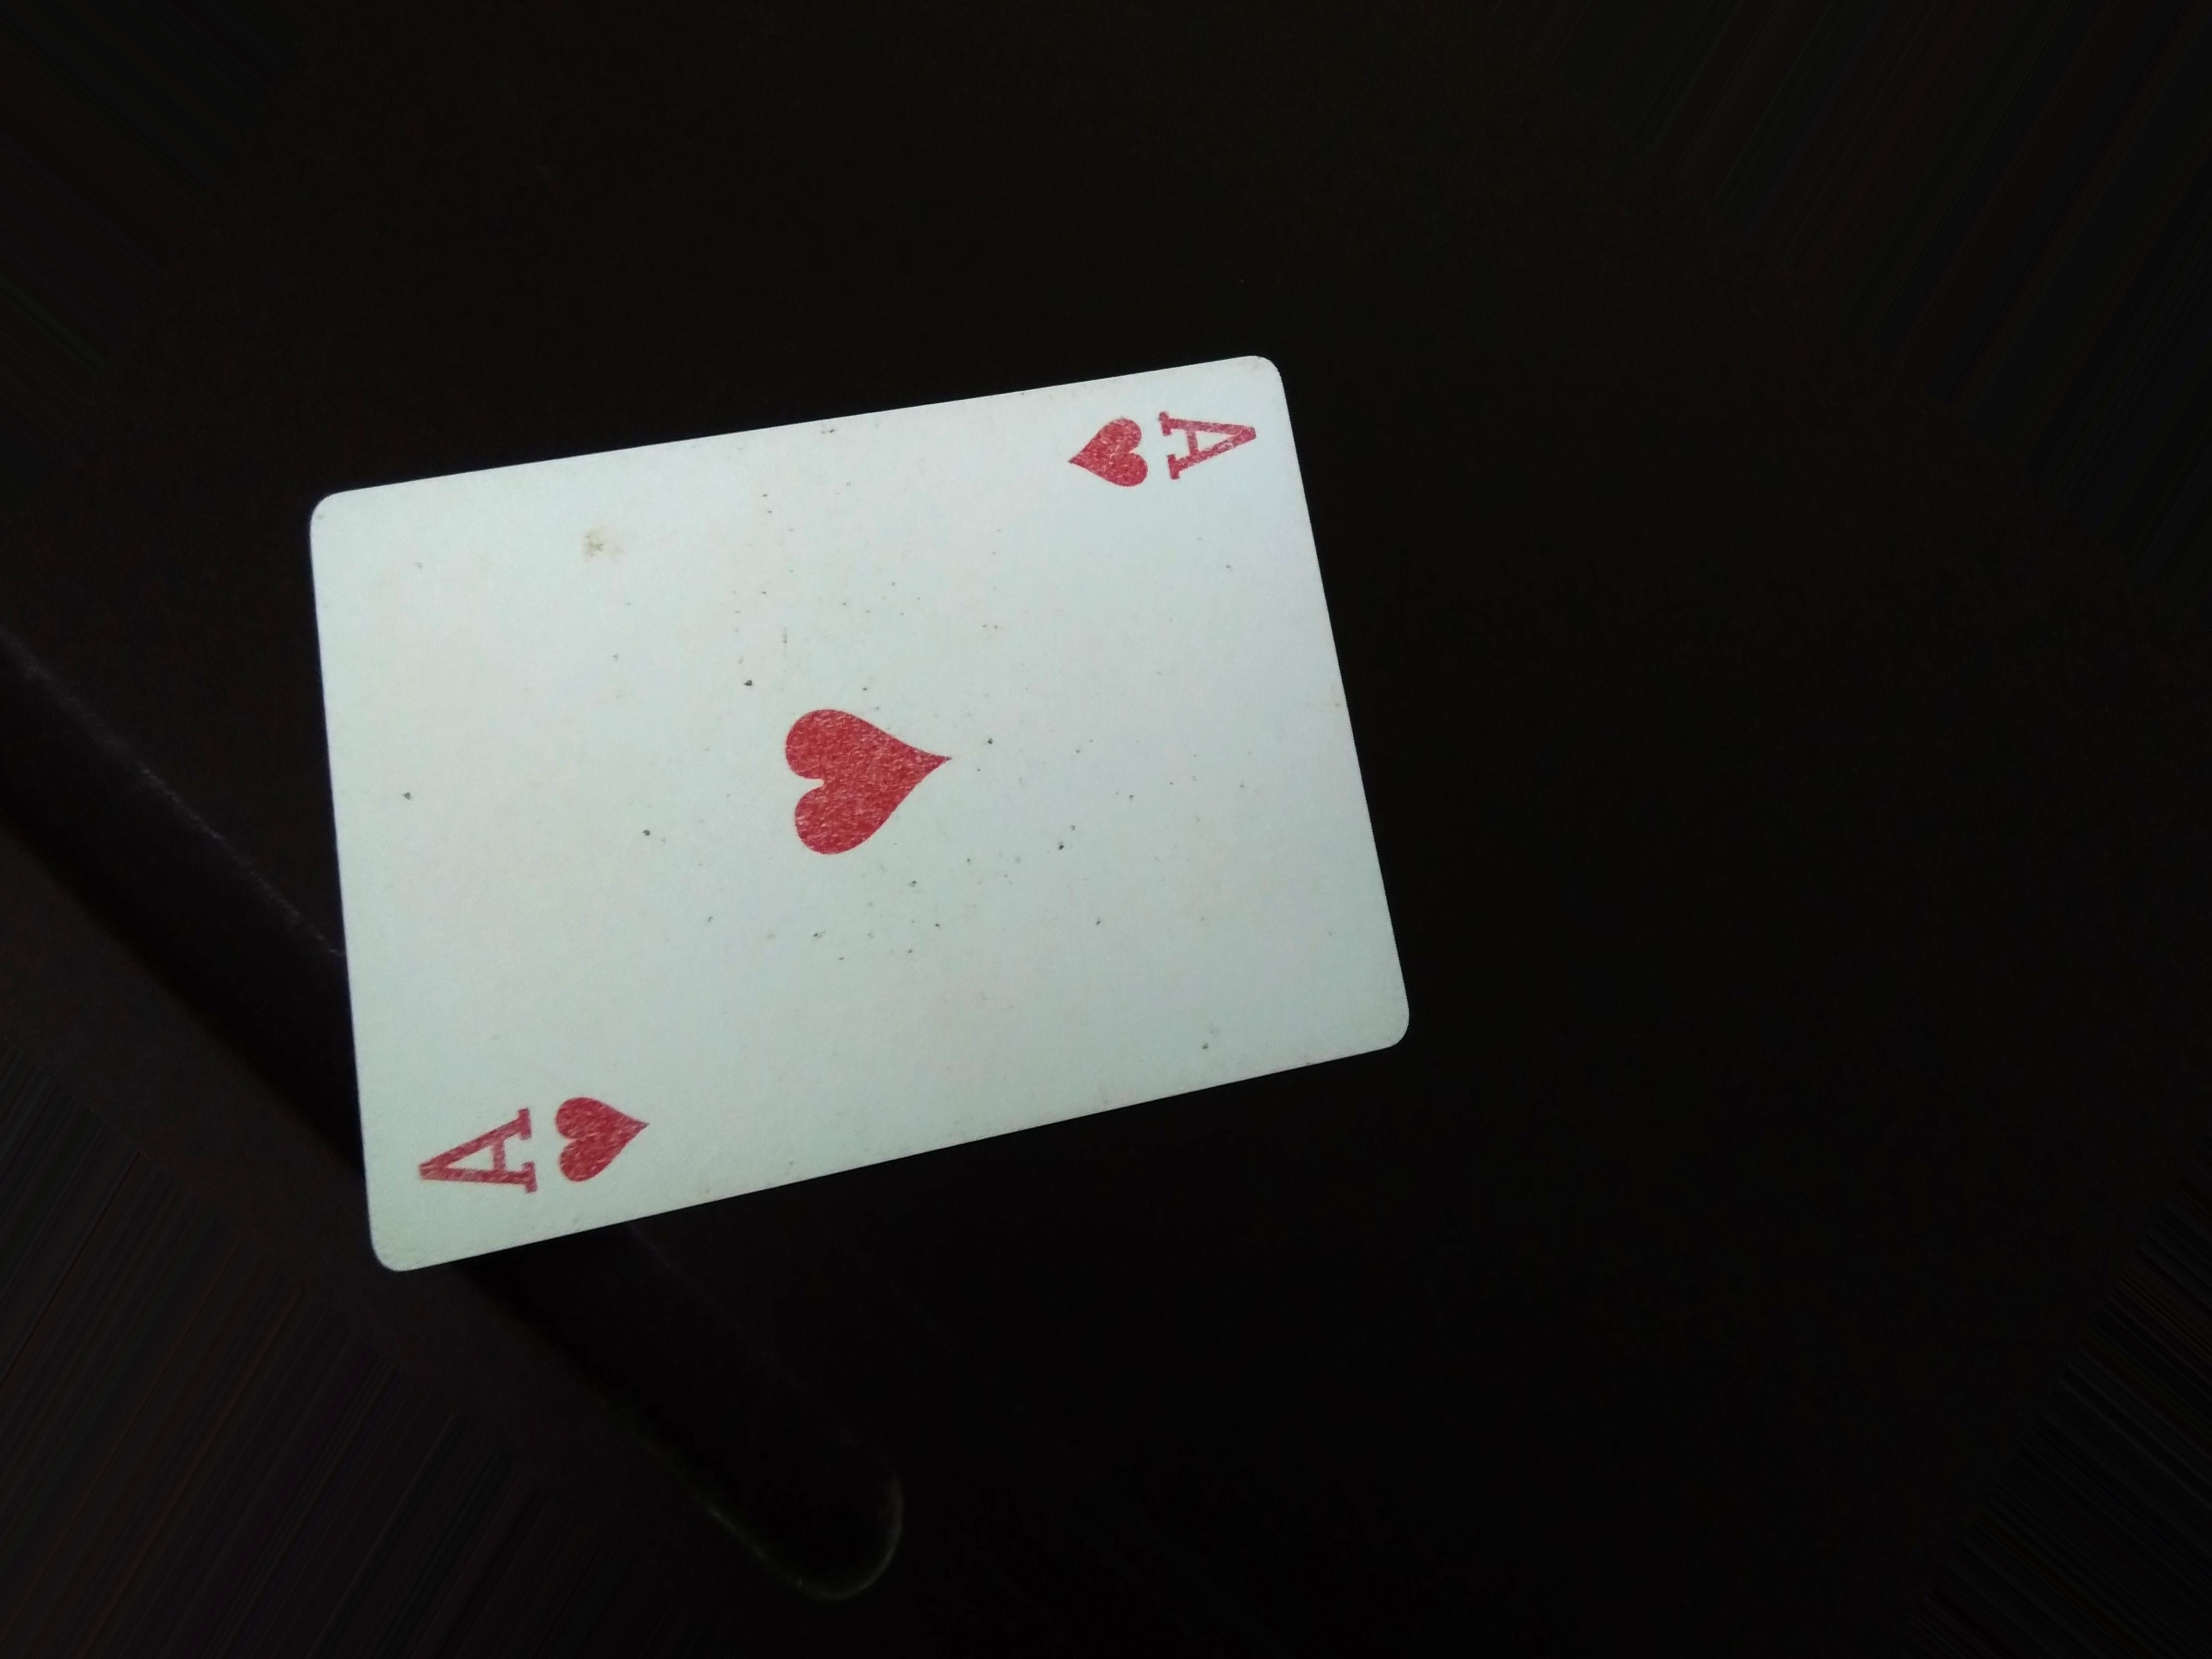AH: (415, 1049, 655, 1229)
